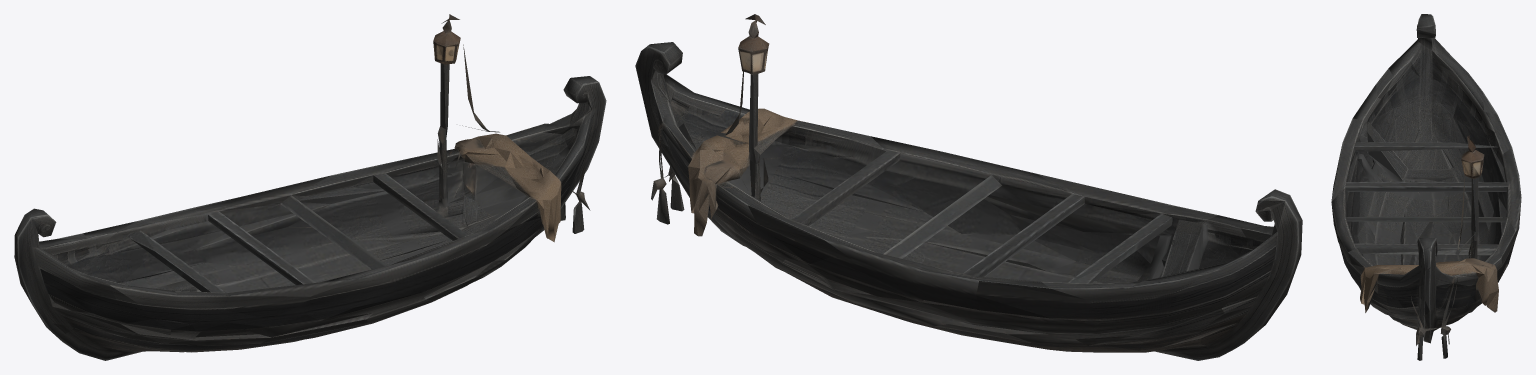
The model's file is modelo.fbx.
3 views of the same model, side by side, from view 1: azimuth 30°, elevation 25°; view 2: azimuth 150°, elevation 25°; view 3: azimuth 270°, elevation 25° (orthographic). The views are drawn at different scales.
Parts seen in each view (by area): view 1: Mesh_0; view 2: Mesh_0; view 3: Mesh_0.
Boxes of the visible parts, x1,y1,x2,y2 form: Mesh_0: [14, 14, 606, 360]; Mesh_0: [635, 14, 1302, 360]; Mesh_0: [1331, 14, 1521, 360].
Size of the model in its own units: 190 by 73.33 by 63.47.
Materials: 1 (1 with a texture image).
